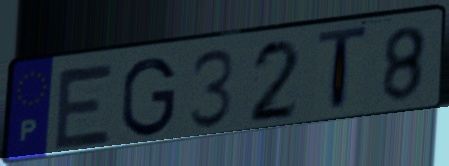2: (247, 38, 305, 125)
3: (187, 47, 238, 132)
8: (378, 23, 430, 106)
E: (51, 61, 118, 153)
G: (119, 55, 179, 140)
T: (315, 23, 371, 118)
